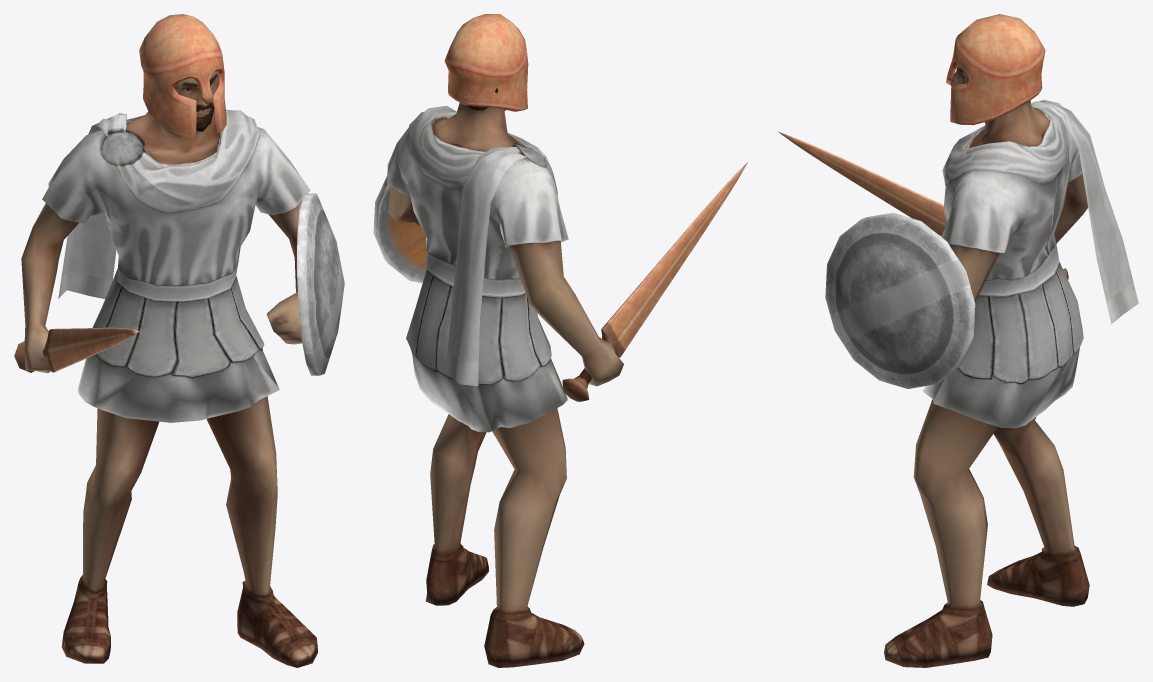
Rendered from 34-myrmidon.glb.
3 views of the same model, side by side, from view 1: azimuth 30°, elevation 25°; view 2: azimuth 150°, elevation 25°; view 3: azimuth 270°, elevation 25° (orthographic). The views are drawn at different scales.
Bounding box in the file's own units: 0.9934 × 2.05 × 1.1.
Materials: 4 (4 with a texture image).
